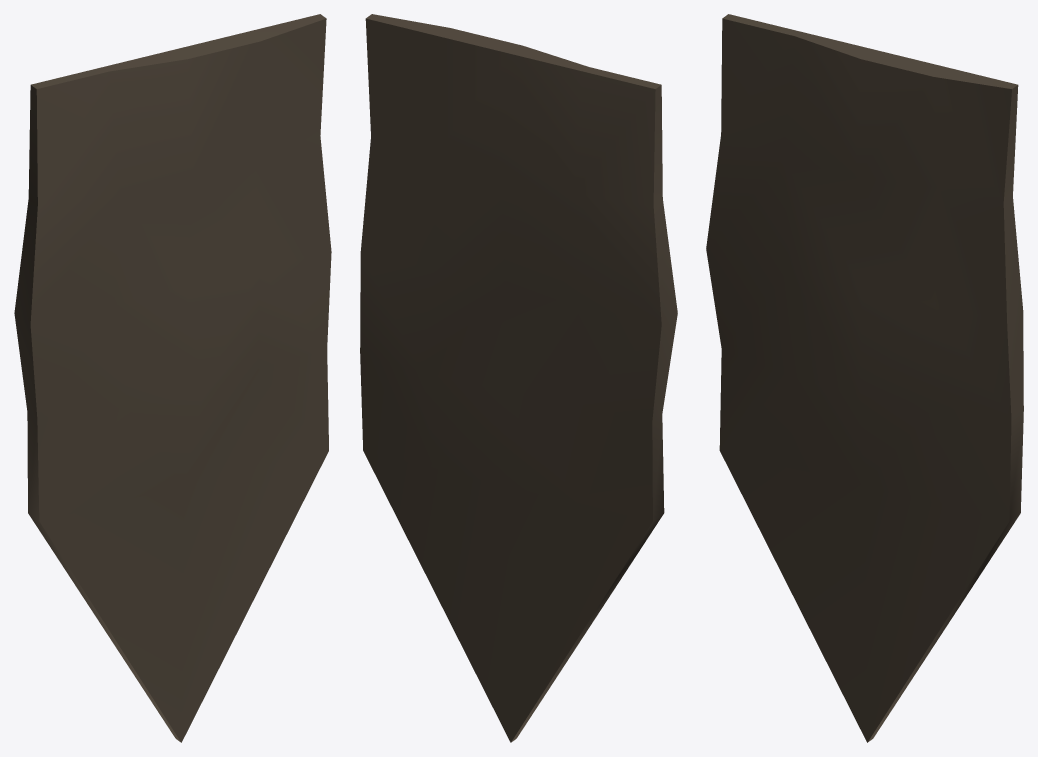
File: Estandarte.fbx
The picture shows the model from 3 angles, left to right: view 1: azimuth 30°, elevation 25°; view 2: azimuth 150°, elevation 25°; view 3: azimuth 330°, elevation 25°; orthographic projection.
Parts seen in each view (by area): view 1: pasted__pCube1; view 2: pasted__pCube1; view 3: pasted__pCube1.
Part boxes in pixels (bbox=[...]): pasted__pCube1: bbox=[14, 14, 331, 742]; pasted__pCube1: bbox=[360, 14, 677, 742]; pasted__pCube1: bbox=[706, 14, 1023, 742].
Size of the model in its own units: 5.19 by 11.36 by 0.9463.
